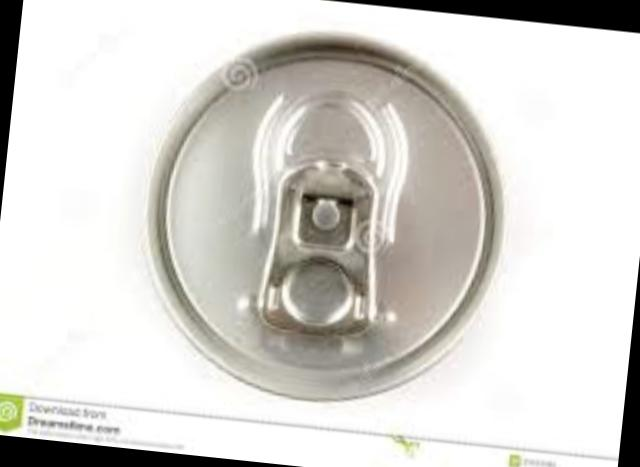metal: (146, 30, 497, 395)
